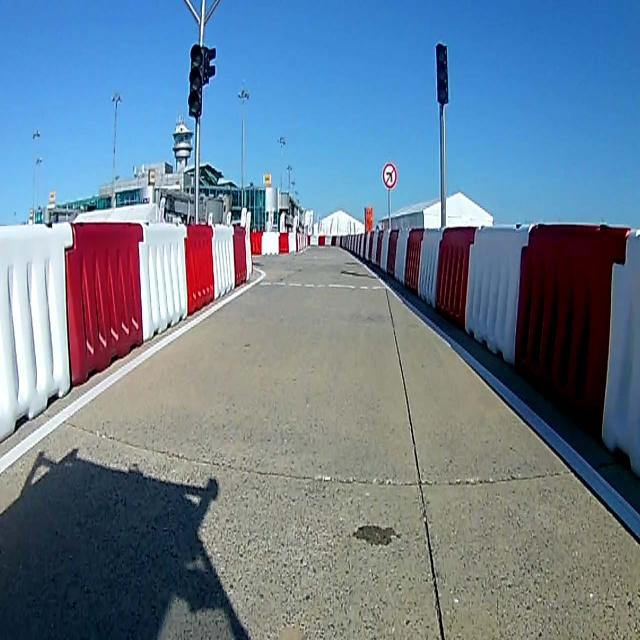soladonulmez: (382, 163, 396, 189)
